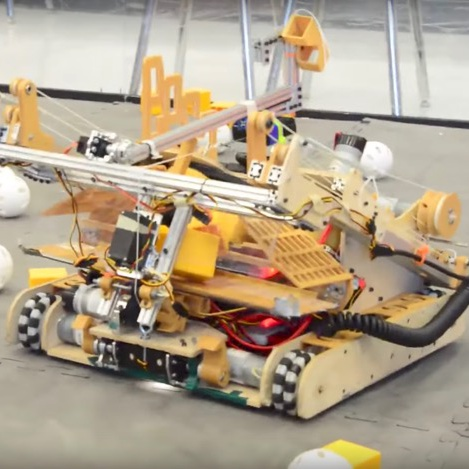robot: (1, 0, 469, 426)
